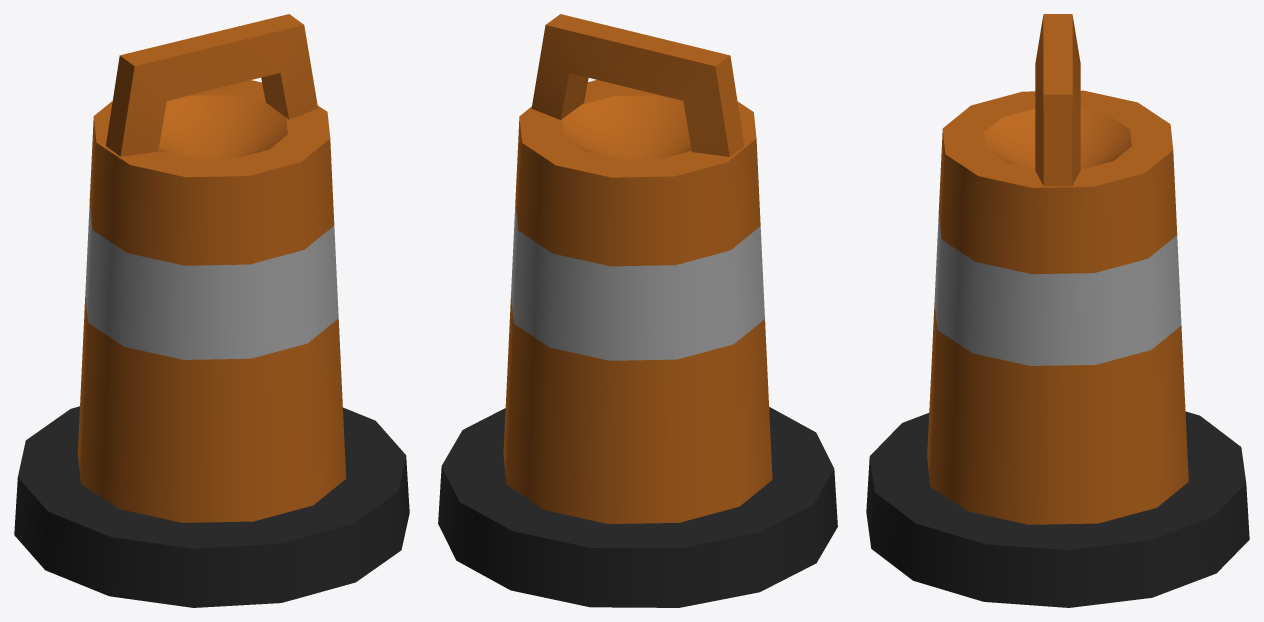
Rendered from roadcone_04.fbx.
3 renders of one model, left to right at view 1: azimuth 30°, elevation 25°; view 2: azimuth 150°, elevation 25°; view 3: azimuth 270°, elevation 25°, orthographic. The views are drawn at different scales.
Visible parts, largest first — view 1: roadcone_04; view 2: roadcone_04; view 3: roadcone_04.
Part boxes in pixels (x1=…): roadcone_04: x1=14, y1=14, x2=409, y2=607; roadcone_04: x1=438, y1=14, x2=837, y2=607; roadcone_04: x1=866, y1=14, x2=1249, y2=607.
Bounding box in the file's own units: 74.7 × 100 × 73.78.
